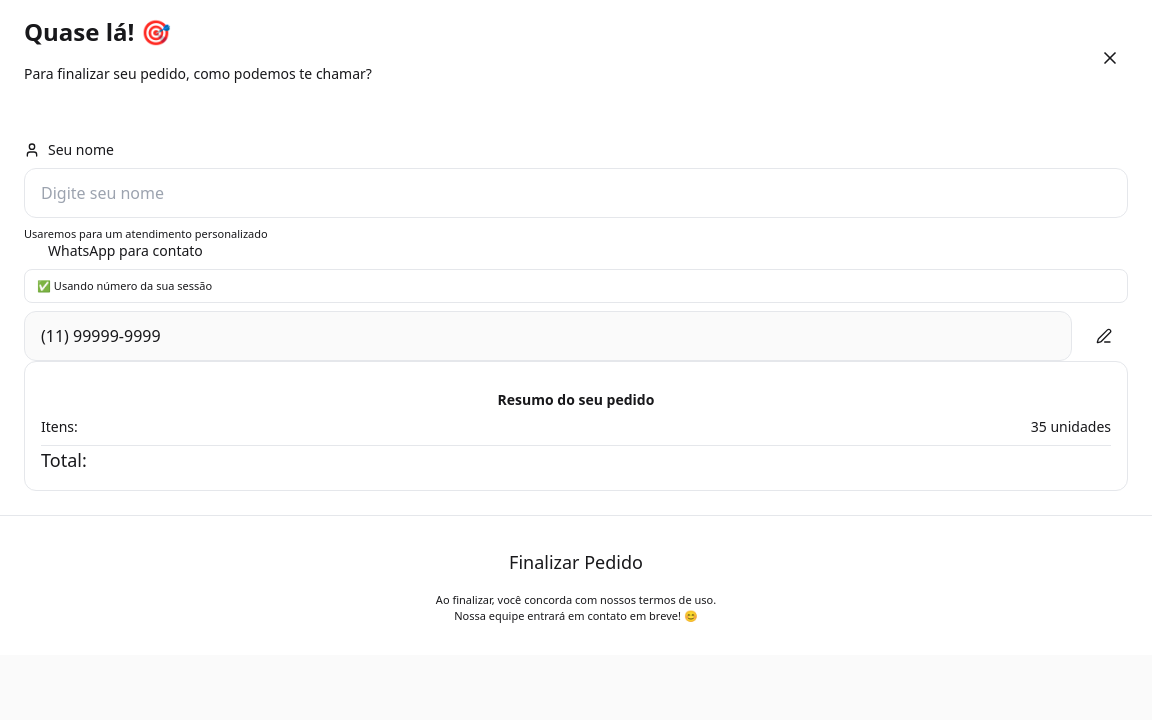
it: CustomerNameModal - CartSidebar Integration › Form Validation › enables submit when name is provided
This screenshot has width=1152, height=720.
Step 1. Type "João Silva" into the field with placeholder "Digite seu nome" → (576, 193), box [24, 168, 1128, 218]
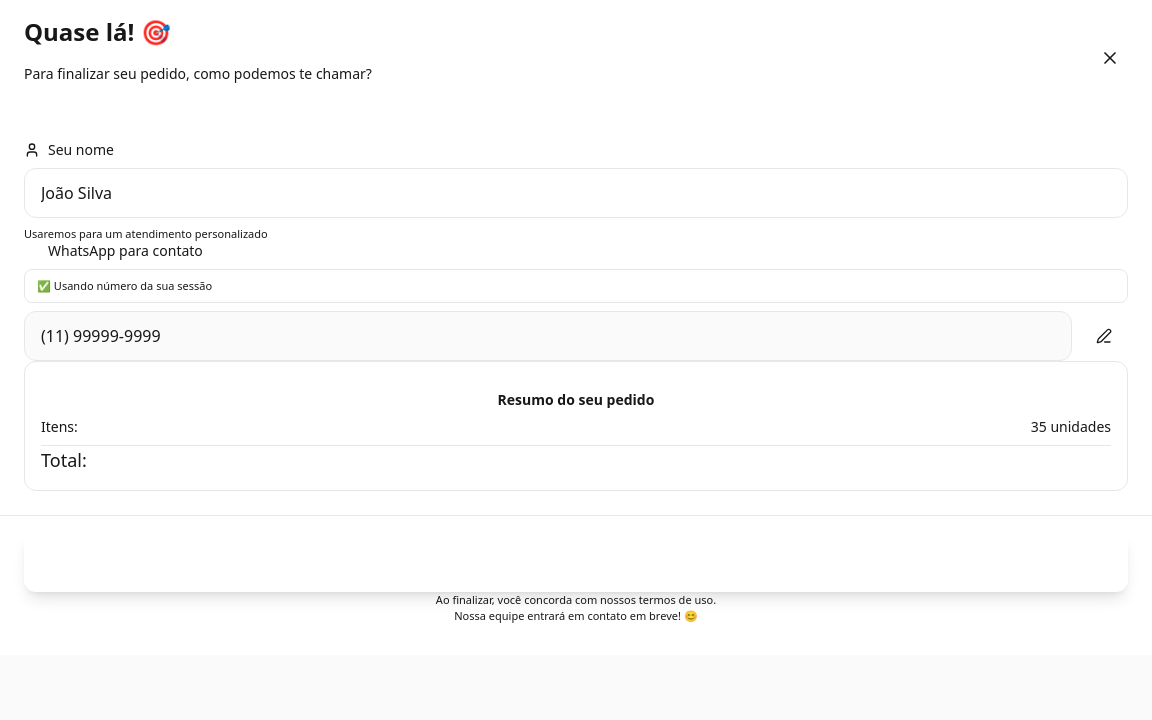
Expected: the button "Finalizar Pedido" is enabled, [24, 532, 1128, 592]
